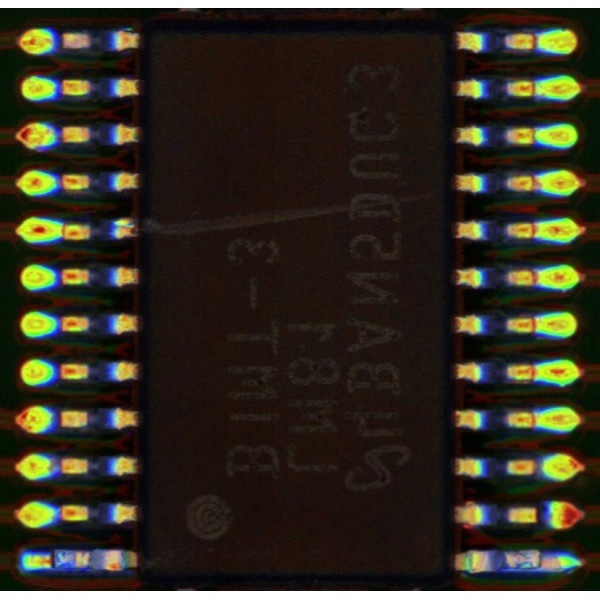Bad_podu: (528, 556, 555, 568), (38, 555, 65, 564)
